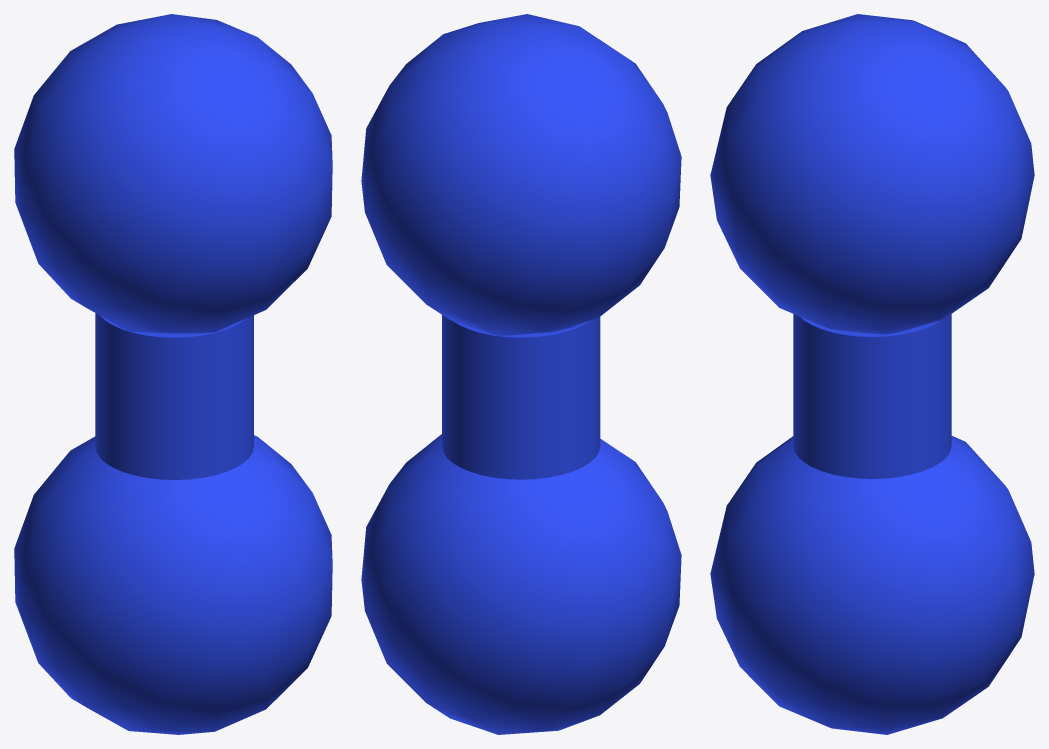
3 renders of one model, left to right at view 1: azimuth 30°, elevation 25°; view 2: azimuth 150°, elevation 25°; view 3: azimuth 270°, elevation 25°, orthographic.
Parts seen in each view (by area): view 1: subnode_1, subnode_0, subnode_2; view 2: subnode_1, subnode_0, subnode_2; view 3: subnode_1, subnode_0, subnode_2.
Boxes of the visible parts, bbox=[...] form: subnode_1: bbox=[14, 14, 332, 333]; subnode_0: bbox=[14, 435, 332, 734]; subnode_2: bbox=[95, 313, 253, 479]; subnode_1: bbox=[361, 14, 681, 335]; subnode_0: bbox=[361, 434, 681, 734]; subnode_2: bbox=[442, 315, 600, 479]; subnode_1: bbox=[710, 14, 1034, 334]; subnode_0: bbox=[710, 436, 1034, 734]; subnode_2: bbox=[793, 314, 951, 478].
Size of the model in its own units: 0.8122 by 1.93 by 0.82.
